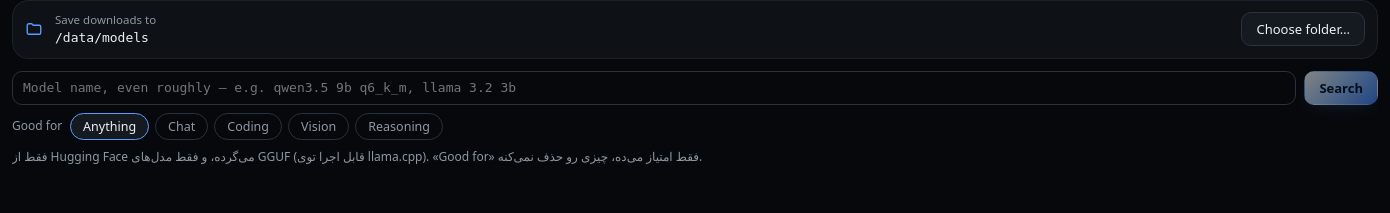
Scenario: OnlineModelSearch › shows friendly errors from the backend (offline / rate limit) instead of raw JSON
Type "x" into the field labelled "Model name".
click(654, 88); type("x")  # box [12,71,1296,105]
Then press Enter
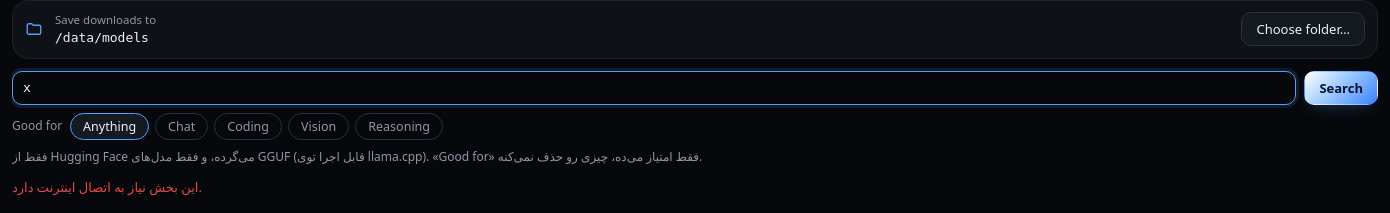
Expected: the text "این بخش نیاز به اتصال اینترنت دارد." is shown, [12,178,202,196]
